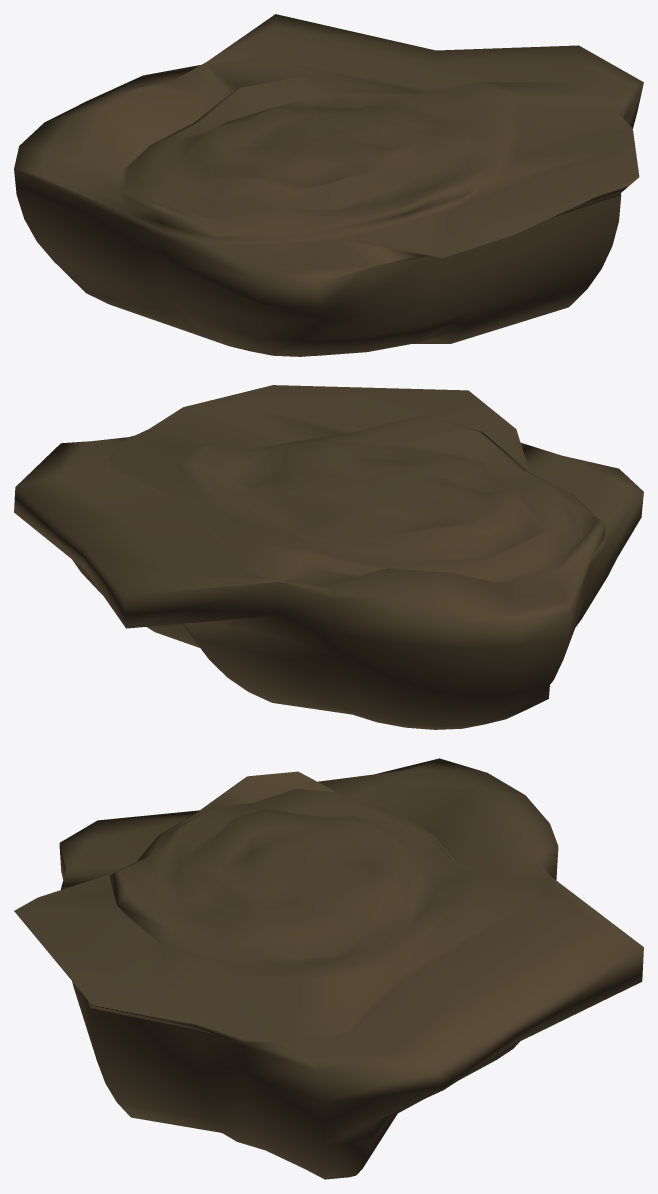
The model's file is CHOCOLATE  LAKE.fbx.
3 views of the same model, one above another, from view 1: azimuth 30°, elevation 25°; view 2: azimuth 150°, elevation 25°; view 3: azimuth 270°, elevation 25° (orthographic). The views are drawn at different scales.
Parts seen in each view (by area): view 1: polySurface835; view 2: polySurface835; view 3: polySurface835.
Part boxes in pixels (x1=…): polySurface835: x1=14, y1=14, x2=643, y2=356; polySurface835: x1=14, y1=385, x2=643, y2=729; polySurface835: x1=14, y1=758, x2=643, y2=1179.
Bounding box in the file's own units: 21.42 × 7.4 × 18.99.
